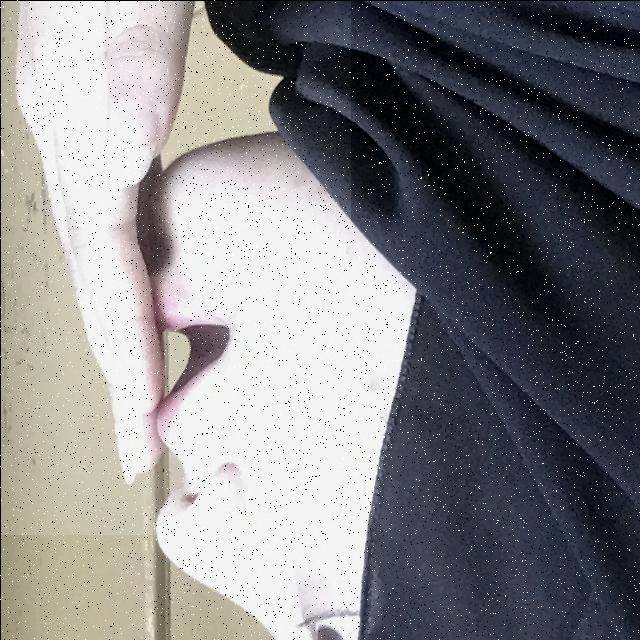ngantuk: (0, 0, 350, 534)
